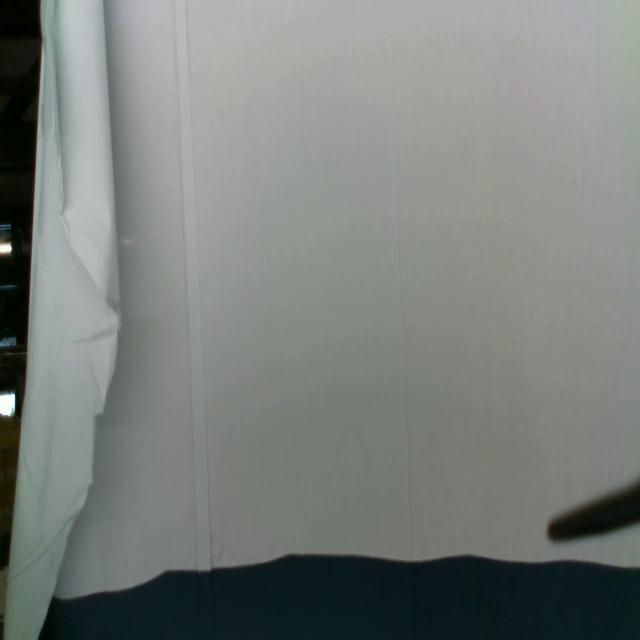crease: (174, 0, 214, 566), (390, 36, 415, 560)
